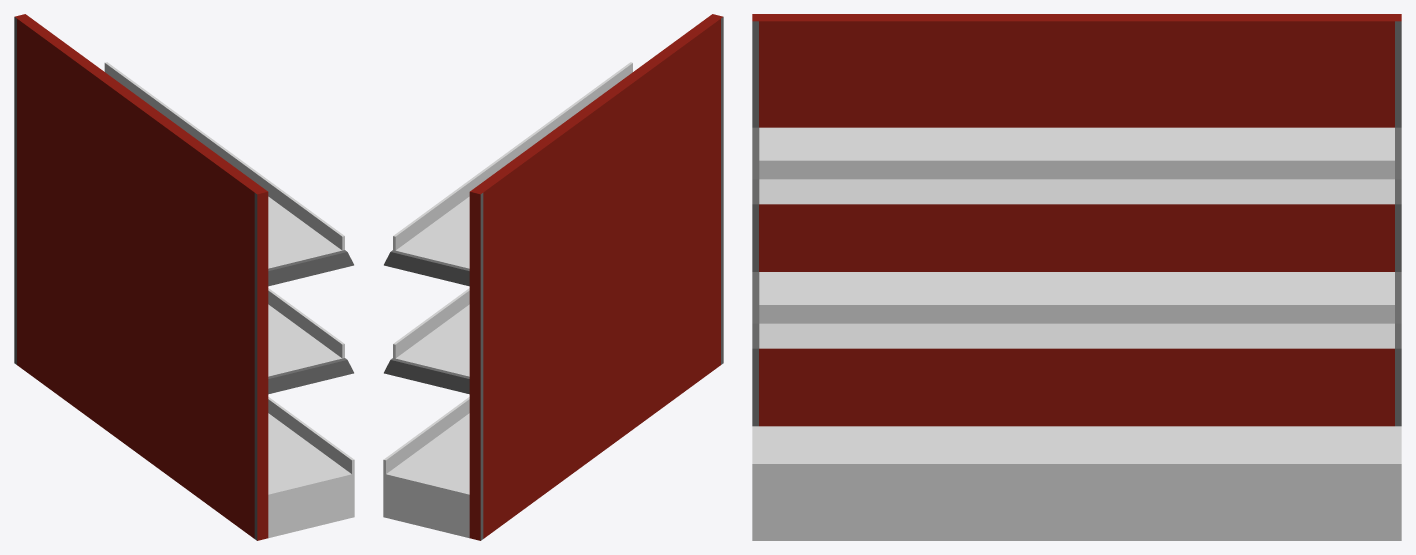
Rendered from SM_Gondola.001.fbx.
3 views of the same model, side by side, from view 1: azimuth 30°, elevation 25°; view 2: azimuth 150°, elevation 25°; view 3: azimuth 270°, elevation 25° (orthographic). The views are drawn at different scales.
Visible parts, largest first — view 1: SM_Gondola.001; view 2: SM_Gondola.001; view 3: SM_Gondola.001.
Boxes of the visible parts, x1,y1,x2,y2 form: SM_Gondola.001: (14,14,354,540); SM_Gondola.001: (383,14,723,540); SM_Gondola.001: (752,14,1401,540).
Size of the model in its own units: 44.08 by 150 by 190.
